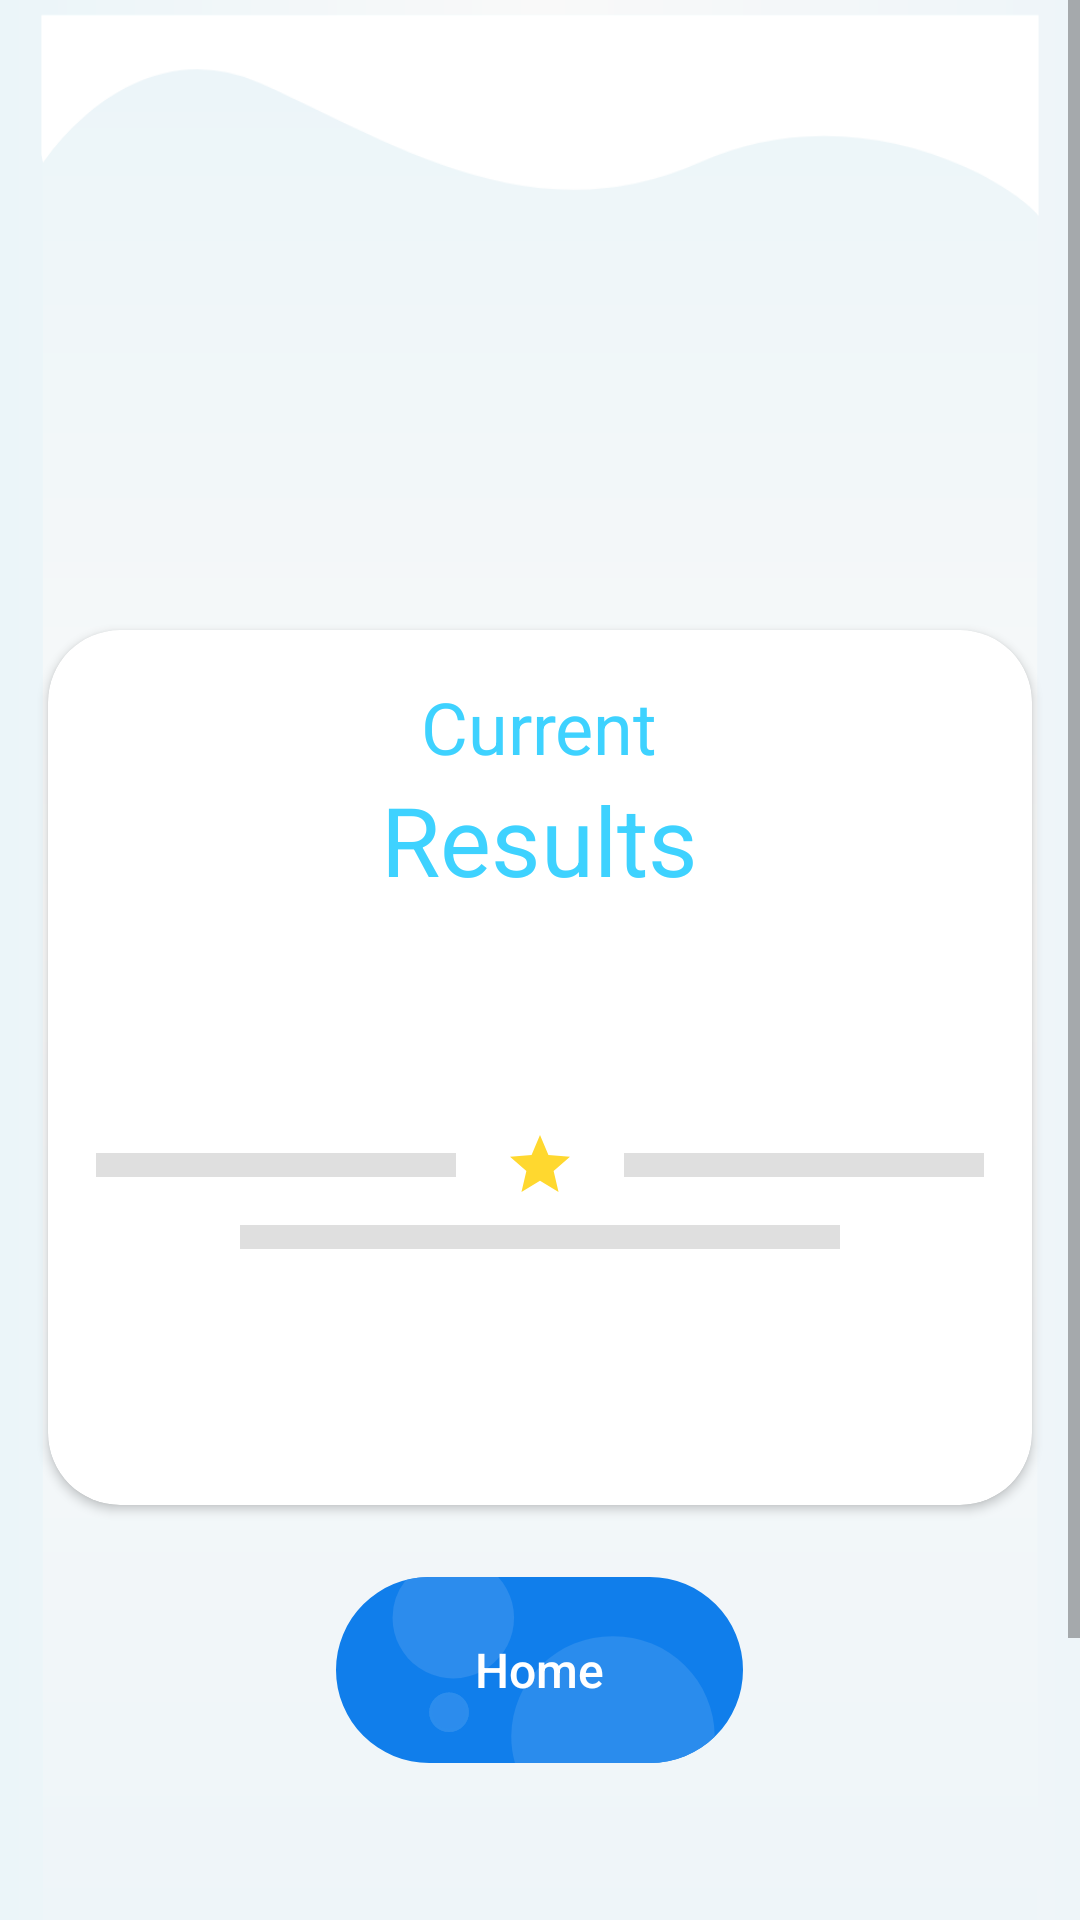

Locate icon controls on the screen. Image size 1080 x 1920, boxes as (x1, y1, x2, y2).
star: (510, 1135, 570, 1192)
